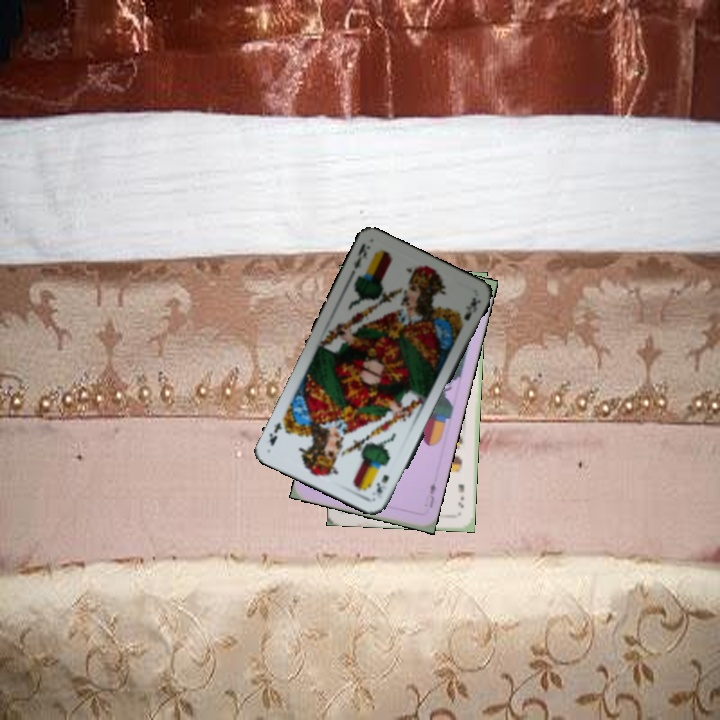E7: (454, 480, 467, 510)
EK: (349, 239, 370, 271), (372, 470, 392, 498)
EU: (423, 479, 439, 511)
